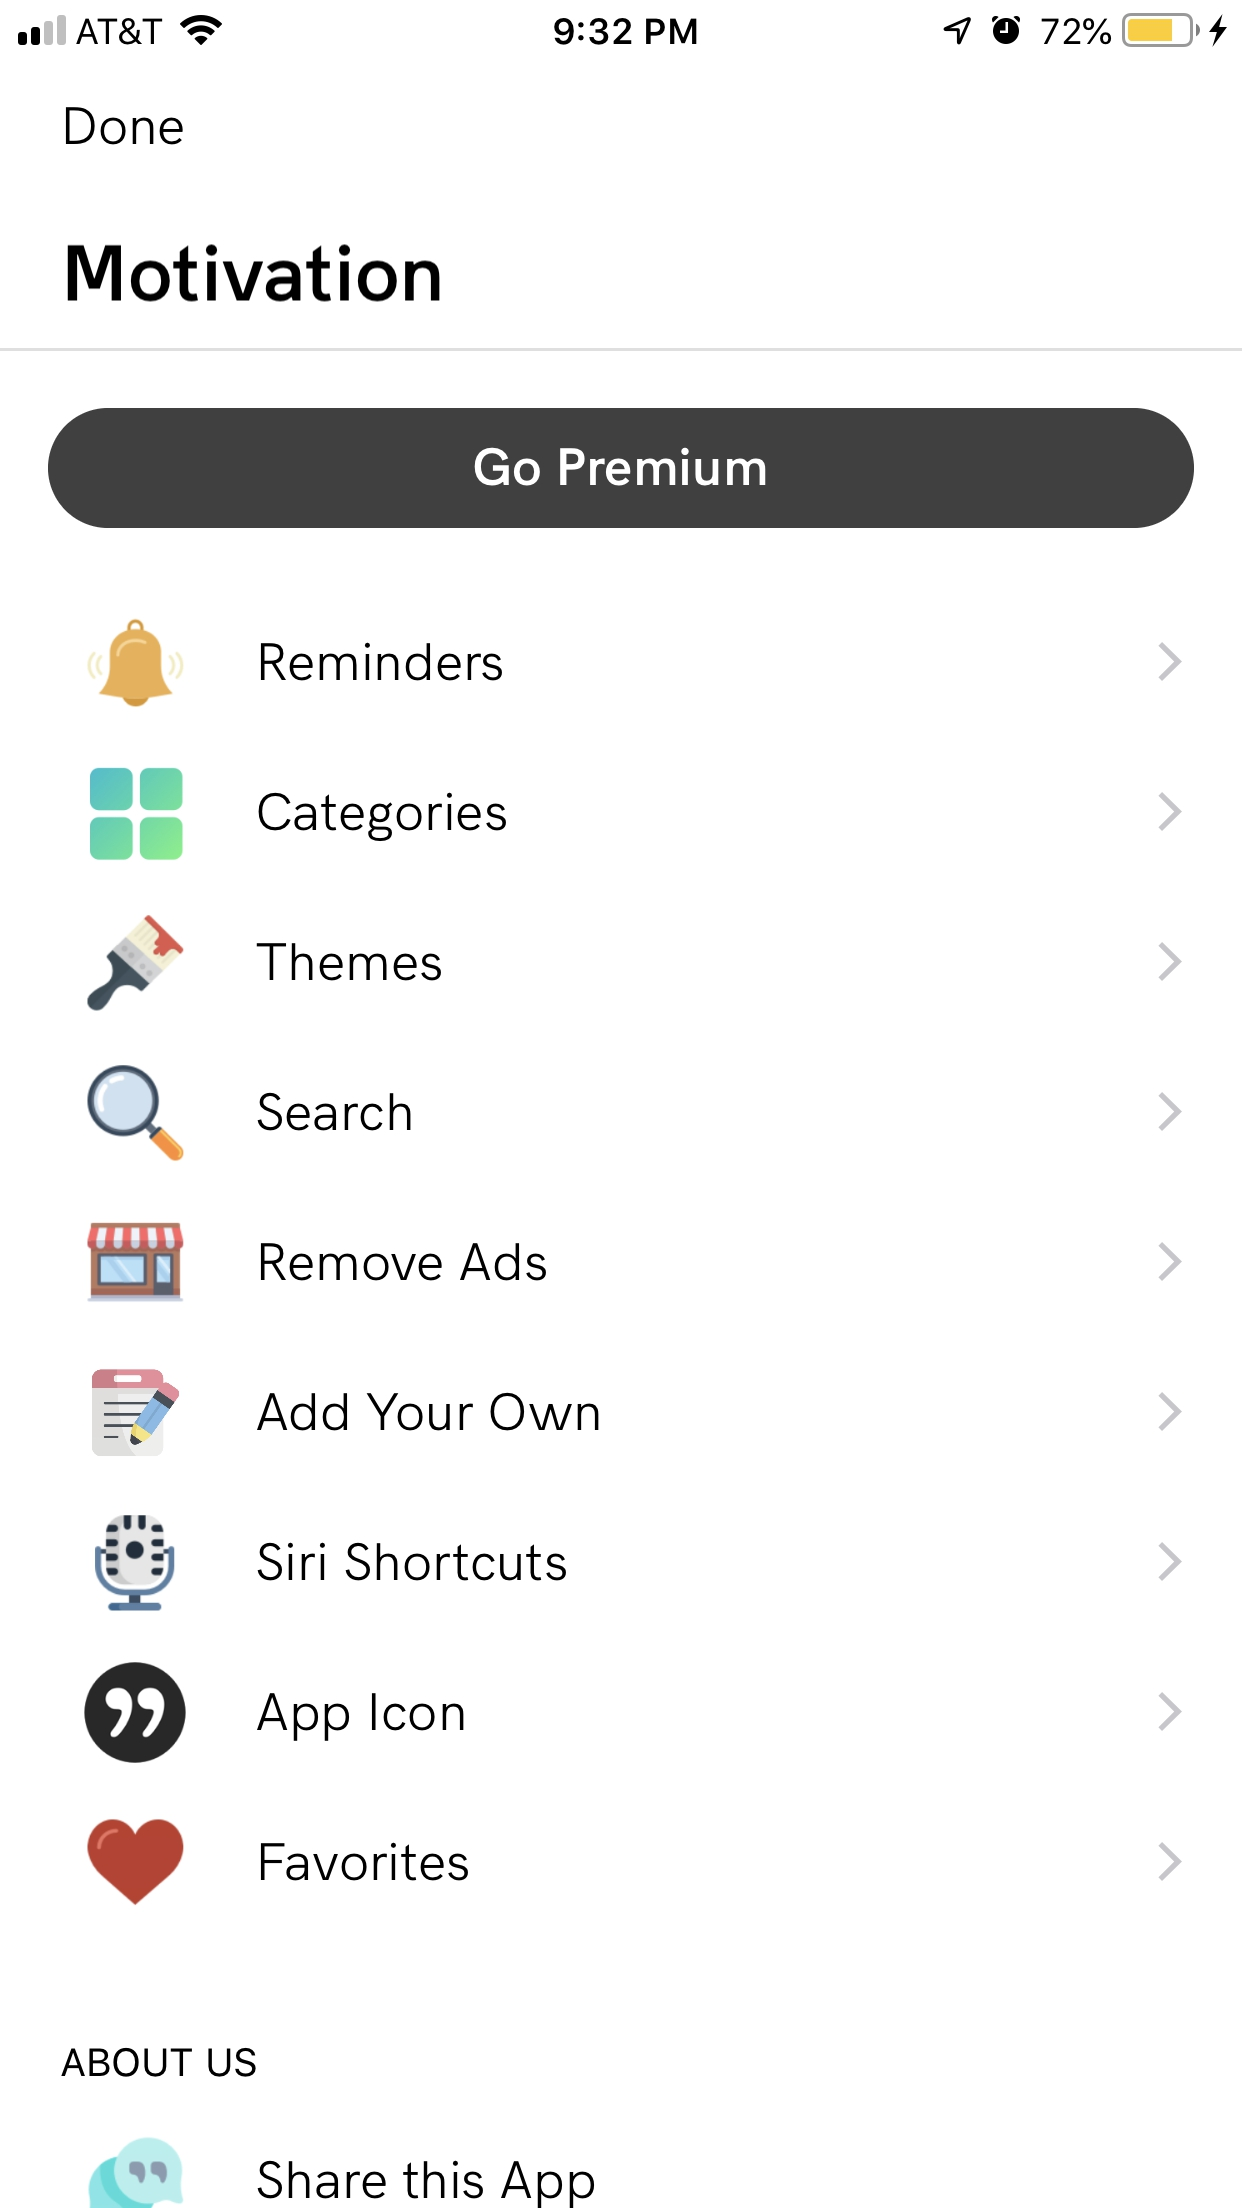Icon: (86, 1065, 185, 1162), (91, 767, 185, 861), (86, 619, 185, 708), (86, 1818, 185, 1906), (1159, 1841, 1183, 1882), (1159, 1691, 1183, 1732), (1159, 1240, 1183, 1281), (1159, 942, 1183, 983), (1159, 792, 1183, 833), (1159, 641, 1183, 682), (1159, 1542, 1183, 1582), (1159, 1392, 1183, 1432), (1159, 1092, 1183, 1131)
Image: (83, 1662, 187, 1764), (86, 914, 185, 1011), (96, 1513, 176, 1612), (86, 1222, 185, 1303), (93, 1368, 180, 1457), (89, 2137, 183, 2208)
Text: (68, 244, 441, 303), (258, 2159, 596, 2208), (256, 1394, 601, 1432), (258, 792, 507, 842), (256, 1542, 567, 1582), (261, 1244, 547, 1281), (256, 1692, 466, 1742), (259, 641, 503, 682), (259, 1843, 469, 1882), (256, 943, 441, 983), (62, 2047, 258, 2078), (258, 1093, 412, 1131), (67, 108, 185, 146)
TextButton: (49, 406, 1195, 529)
UpperTaskBar: (2, 2, 1242, 49)
